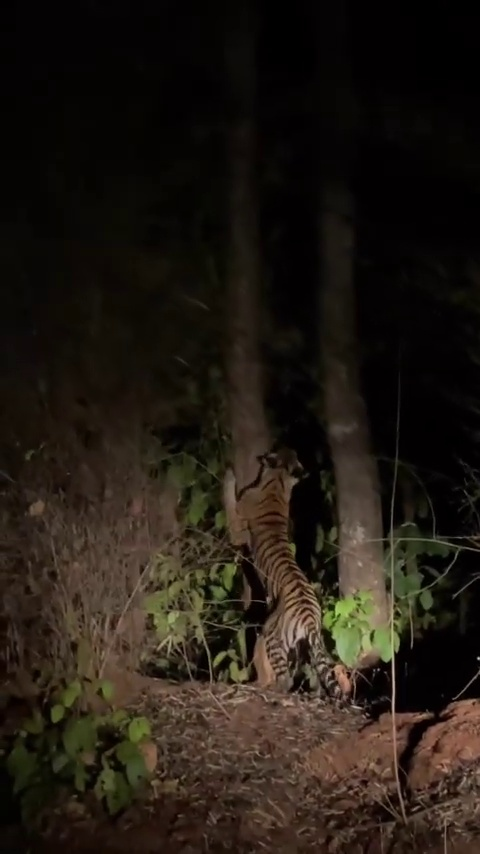Tiger: (220, 443, 344, 700)
